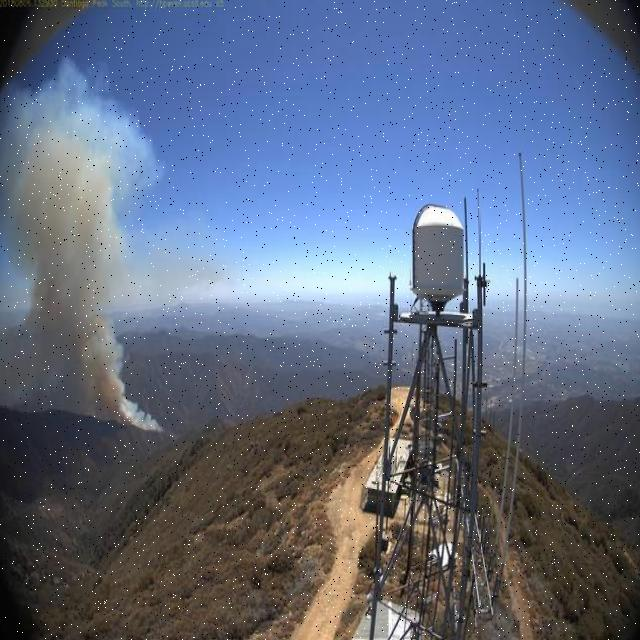smoke: (1, 58, 167, 435)
